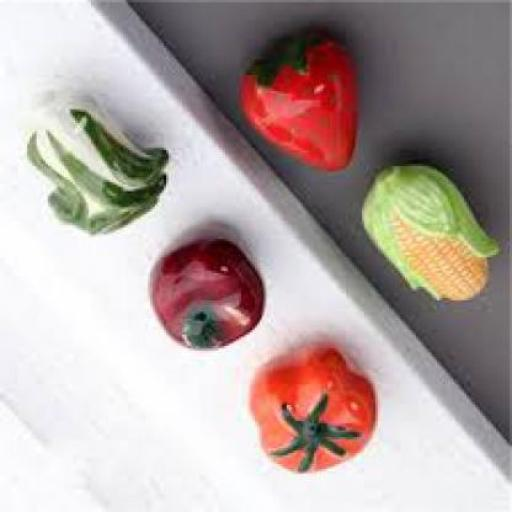plastic: (23, 91, 168, 236), (359, 166, 496, 305), (247, 345, 378, 476), (239, 36, 355, 176), (148, 225, 262, 353)
